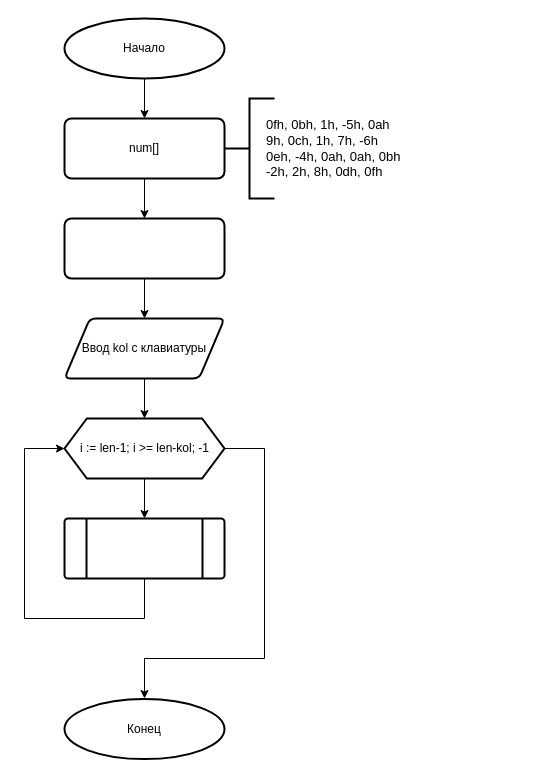
This 547x777 diagram has some shape labels left out. The box of each missing label's shape, as (x1, y1, x2, y2) in pixels:
binSS (i): (63, 517, 225, 579)
len := $ - num: (63, 217, 225, 279)
